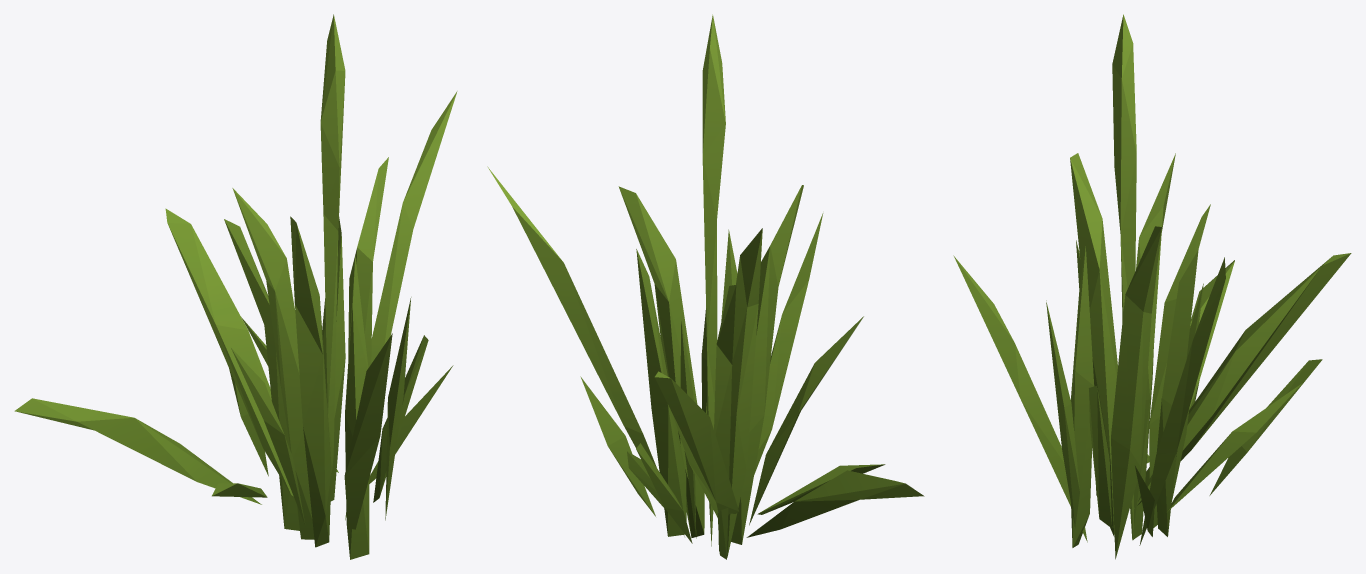
File: ZLP_Grass_A_14.FBX
The picture shows the model from 3 angles, left to right: view 1: azimuth 30°, elevation 25°; view 2: azimuth 150°, elevation 25°; view 3: azimuth 270°, elevation 25°; orthographic projection.
Parts seen in each view (by area): view 1: ZLP_Grass_A_14; view 2: ZLP_Grass_A_14; view 3: ZLP_Grass_A_14.
Part boxes in pixels (x1=…): ZLP_Grass_A_14: x1=14, y1=14, x2=457, y2=559; ZLP_Grass_A_14: x1=487, y1=14, x2=924, y2=559; ZLP_Grass_A_14: x1=953, y1=14, x2=1351, y2=559.
Size of the model in its own units: 94.66 by 109 by 73.73.
